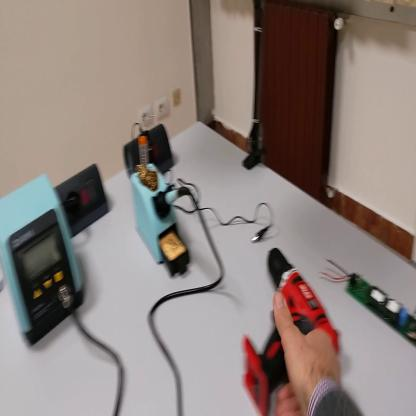electric screwdriver: (237, 246, 335, 416)
hand: (271, 291, 341, 416)
high voltage board: (320, 259, 416, 347)
socket: (54, 161, 112, 237), (125, 118, 173, 188)
welder base: (132, 134, 192, 281)
welder probe tip: (158, 186, 192, 216)
welder station: (2, 175, 87, 347)
